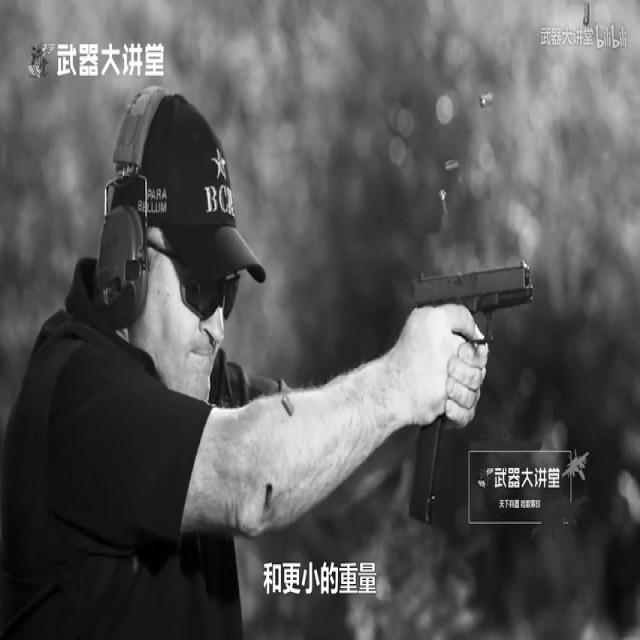Sub-machine-gun: (365, 190, 575, 571)
